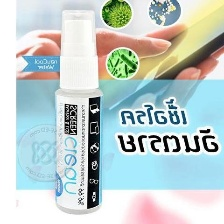cleaning_solution: (50, 6, 108, 217)
phone: (84, 1, 224, 124)
